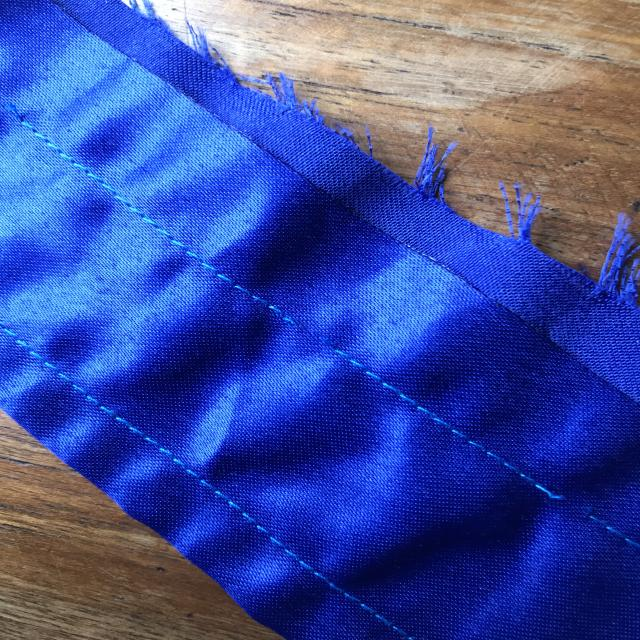broken: (263, 289, 372, 376)
